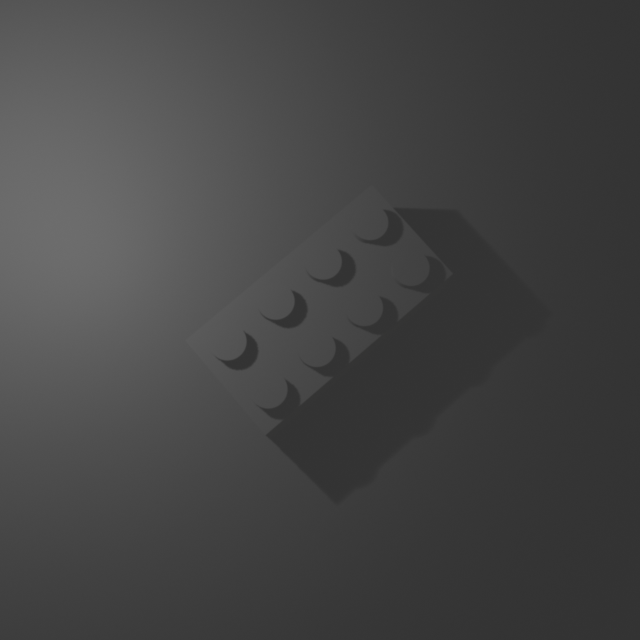lego_2x4: (183, 181, 455, 439)
